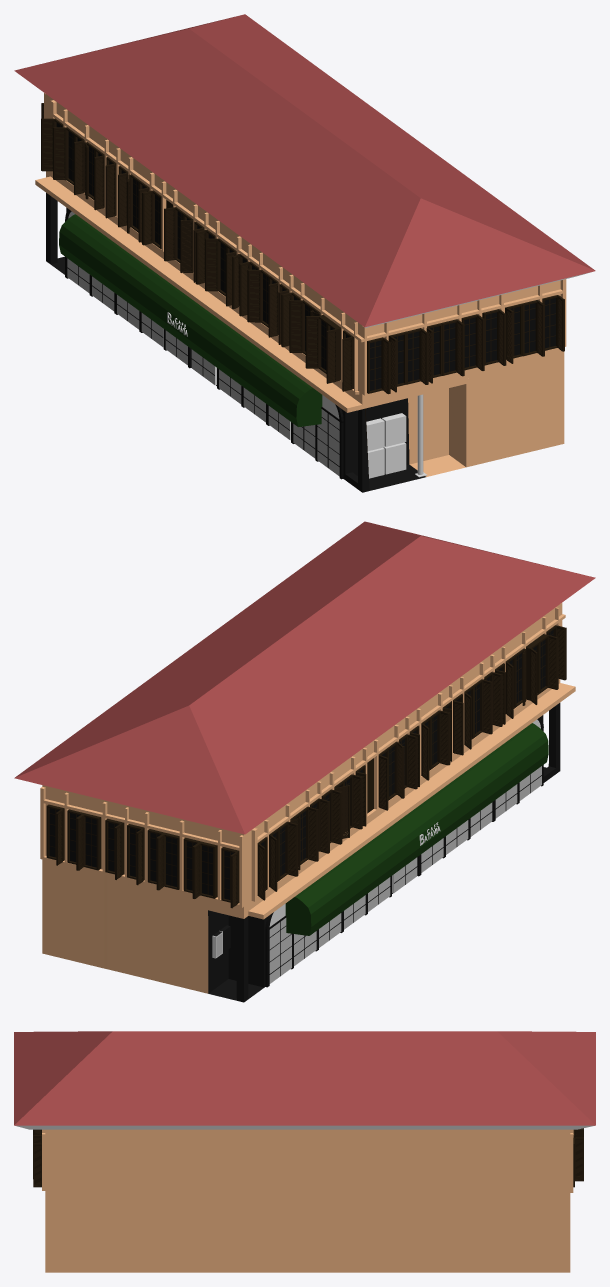
The model's file is CafeBatavia.fbx.
3 views of the same model, one above another, from view 1: azimuth 30°, elevation 25°; view 2: azimuth 150°, elevation 25°; view 3: azimuth 270°, elevation 25° (orthographic). The views are drawn at different scales.
Visible parts, largest first — view 1: Cube.031, Cube, Cube.075, Cube.055, Cube.061, Cube.057, Cube.060, Cube.064, Cube.029, Cube.076, Cube.022, Cube.018 (+20 smaller); view 2: Cube.031, Cube, Cube.075, Cube.066, Cube.073, Cube.069, Cube.033, Cube.030, Cube.071, Cube.019, Cube.004, Cube.065 (+21 smaller); view 3: Cube, Cube.031, Cube.072, Cube.062.
Boxes of the visible parts, box(x1,y1,x2,y2) form: Cube.031: box(14, 14, 595, 327); Cube: box(35, 93, 566, 492); Cube.075: box(59, 214, 322, 426); Cube.055: box(367, 337, 390, 394); Cube.061: box(482, 309, 506, 365); Cube.057: box(405, 328, 428, 384); Cube.060: box(442, 319, 464, 376); Cube.064: box(522, 300, 544, 356); Cube.029: box(305, 315, 332, 373); Cube.076: box(317, 409, 339, 476); Cube.022: box(247, 269, 270, 327); Cube.018: box(205, 238, 227, 296); Cube.031: box(14, 521, 595, 834); Cube: box(40, 603, 575, 1002); Cube.075: box(285, 723, 548, 935); Cube.066: box(192, 841, 217, 898); Cube.073: box(76, 813, 101, 870); Cube.069: box(156, 832, 179, 890); Cube.033: box(269, 918, 291, 983); Cube.030: box(534, 634, 558, 693); Cube.071: box(105, 818, 124, 879); Cube.019: box(430, 710, 450, 768); Cube.004: box(278, 821, 298, 880); Cube.065: box(221, 847, 239, 908); Cube: box(42, 1129, 573, 1272); Cube.031: box(14, 1031, 595, 1129); Cube.072: box(573, 1137, 583, 1187); Cube.062: box(33, 1143, 41, 1187).
Bounding box in the file's own units: 1029 × 978 × 2580.
